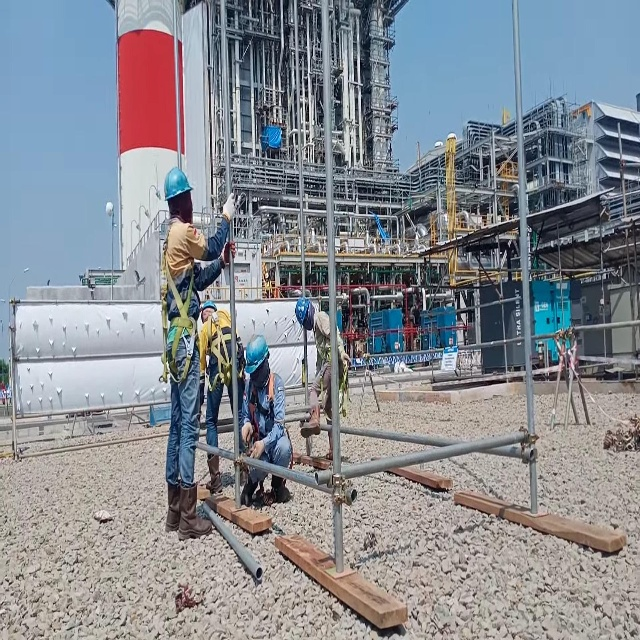Arnes_seguridad: (156, 222, 196, 388), (249, 377, 294, 490), (312, 309, 350, 426), (205, 306, 245, 391)
